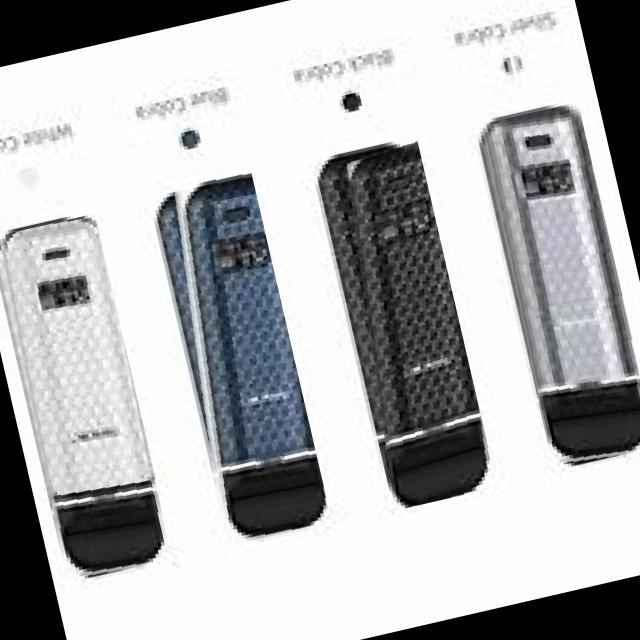Hazard: (140, 166, 332, 550), (312, 138, 496, 510), (0, 212, 173, 584), (473, 100, 640, 472)
